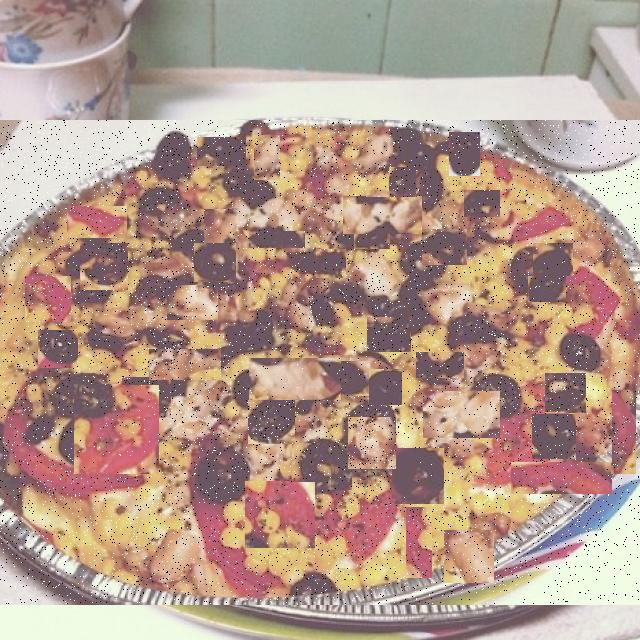Mushrooms: (249, 359, 341, 400), (423, 392, 500, 438), (343, 198, 422, 235), (172, 392, 218, 453), (444, 531, 494, 583), (348, 418, 396, 469), (149, 350, 221, 380), (133, 514, 180, 552), (168, 286, 220, 320), (241, 191, 277, 236), (204, 209, 238, 243), (254, 136, 280, 180), (507, 406, 531, 440)
Olives: (392, 449, 444, 504), (292, 444, 352, 490), (80, 244, 128, 290), (248, 401, 295, 444), (122, 378, 171, 418), (532, 415, 576, 459), (194, 244, 237, 282), (545, 374, 586, 413), (422, 230, 467, 265), (367, 318, 411, 352), (38, 331, 78, 368), (199, 167, 232, 210), (197, 138, 246, 166), (449, 134, 480, 178), (216, 300, 256, 334), (146, 317, 191, 347), (533, 244, 573, 276), (369, 370, 404, 405), (416, 353, 464, 378), (335, 362, 370, 396), (468, 280, 504, 312), (528, 278, 566, 304), (354, 223, 390, 249), (464, 191, 500, 217), (406, 136, 437, 166), (366, 178, 397, 207), (249, 232, 305, 248), (316, 250, 346, 278), (390, 168, 418, 197), (518, 333, 554, 350)
Pizza: (0, 120, 640, 604)
Tomato: (74, 386, 159, 476), (245, 482, 315, 548), (512, 464, 614, 496), (25, 278, 71, 324), (612, 392, 636, 476), (67, 207, 127, 238), (406, 508, 432, 578)
